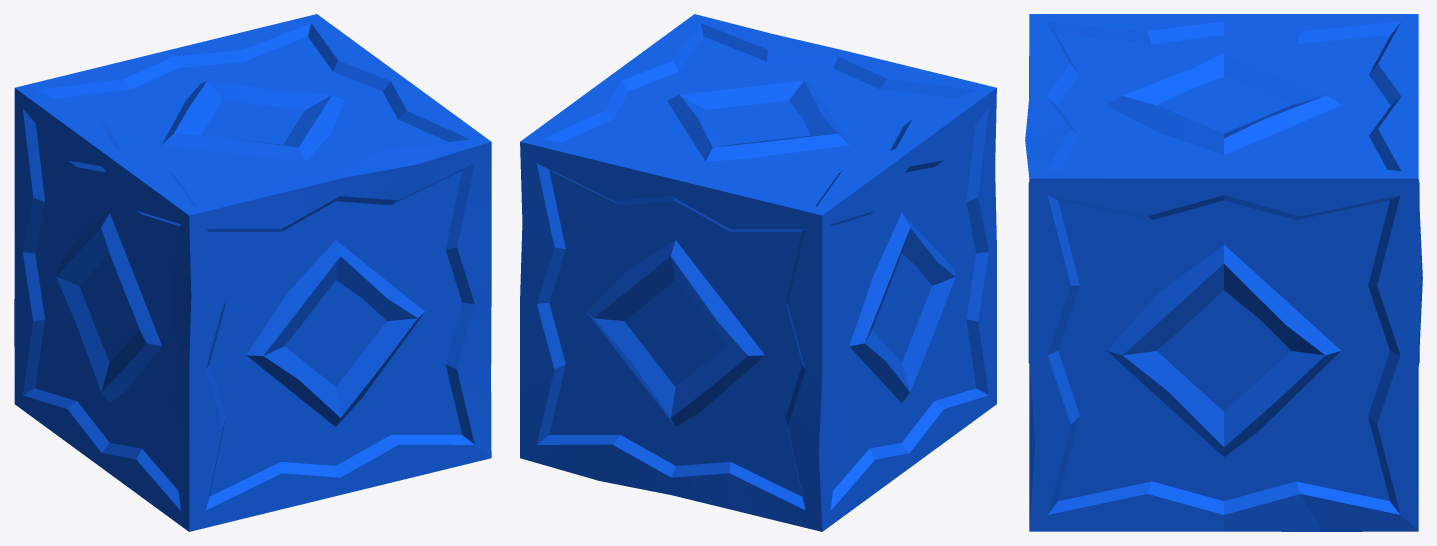
Rendered from MoveDisableIce.fbx.
The picture shows the model from 3 angles, left to right: view 1: azimuth 30°, elevation 25°; view 2: azimuth 150°, elevation 25°; view 3: azimuth 270°, elevation 25°; orthographic projection. The views are drawn at different scales.
Parts seen in each view (by area): view 1: MoveDisableIce; view 2: MoveDisableIce; view 3: MoveDisableIce.
Part boxes in pixels (x1=…): MoveDisableIce: x1=14, y1=14, x2=491, y2=531; MoveDisableIce: x1=520, y1=14, x2=996, y2=531; MoveDisableIce: x1=1025, y1=14, x2=1422, y2=531.
Bounding box in the file's own units: 202 × 204 × 204.
